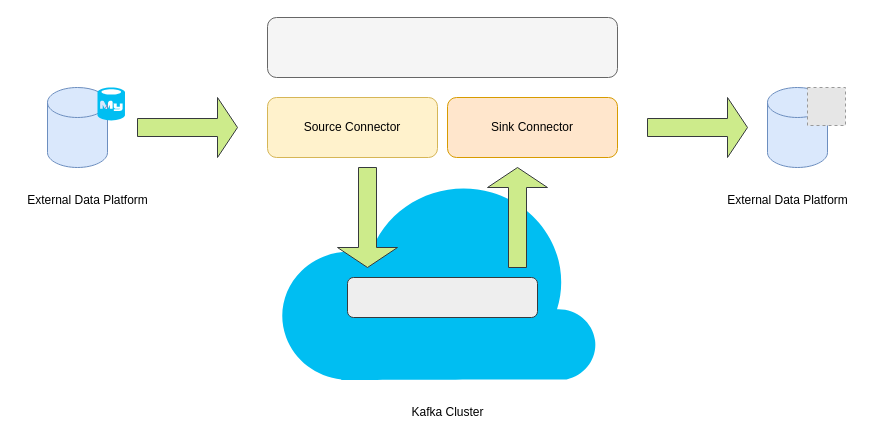
Some shapes in this 874 by 445 pixel diagram are drawn without their labels. Grey dashed boxes stand in for pictures. The shapes that lost their labels are listed below. From the top down, each one's centre as x and y in pixels, then its label:
At point 442,47: "Kafka Connect Cluster".
At point 442,297: "Topics".
